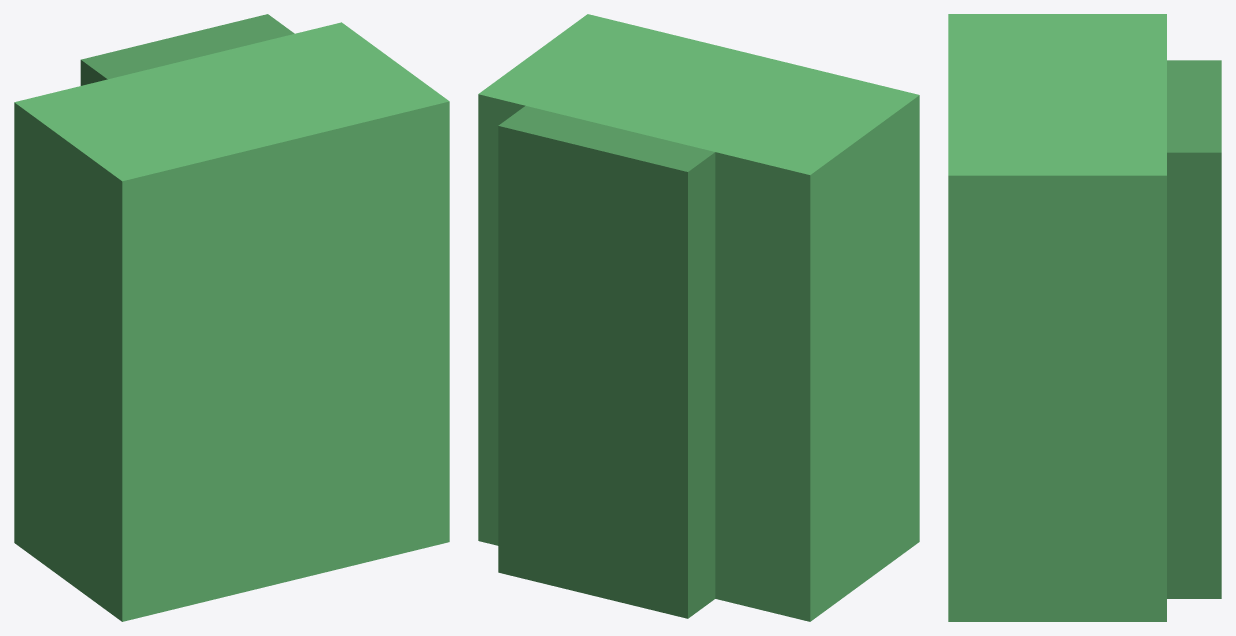
Rendered from legendario_pechera_goblin_01.glb.
3 views of the same model, side by side, from view 1: azimuth 30°, elevation 25°; view 2: azimuth 150°, elevation 25°; view 3: azimuth 270°, elevation 25° (orthographic).
Parts seen in each view (by area): view 1: legendario_pechera_goblin; view 2: legendario_pechera_goblin; view 3: legendario_pechera_goblin.
Part boxes in pixels (x1,y1,x2,y2): legendario_pechera_goblin: (14,14,449,621); legendario_pechera_goblin: (478,14,919,621); legendario_pechera_goblin: (948,14,1221,621).
Bounding box in the file's own units: 0.5833 × 0.75 × 0.4167.
